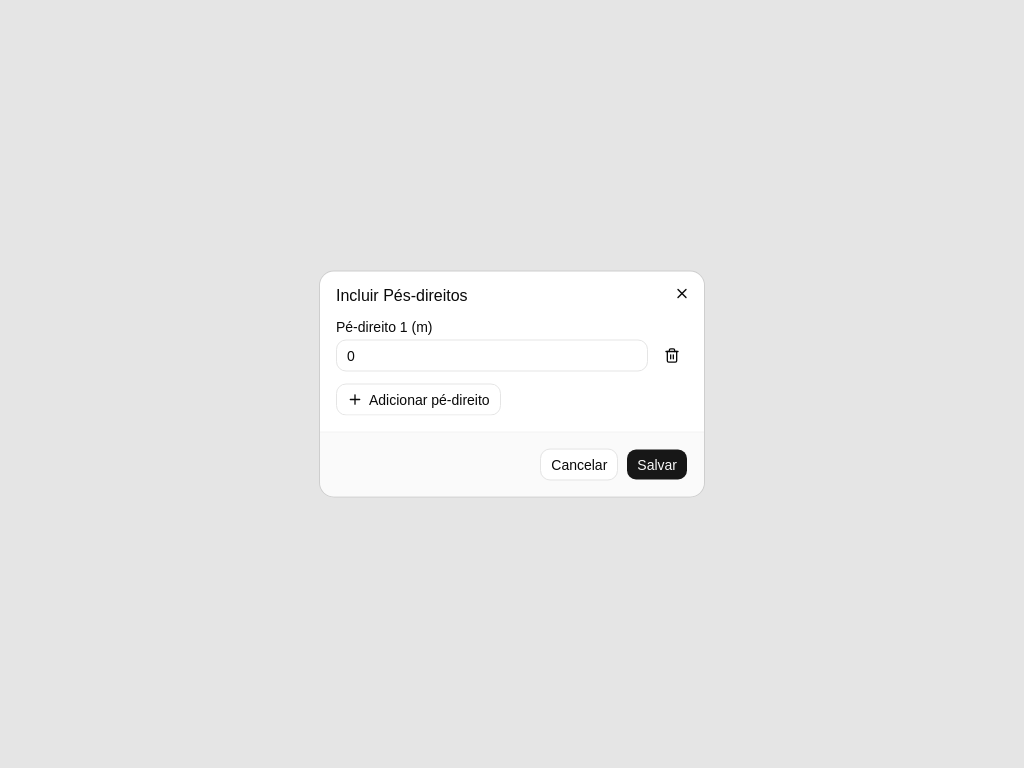
it: ModalPesDireitos (UC10/UC11-FE) › adiciona e remove alturas
Click the button "Adicionar pé-direito" at coordinates (418, 400), box [336, 384, 501, 416]
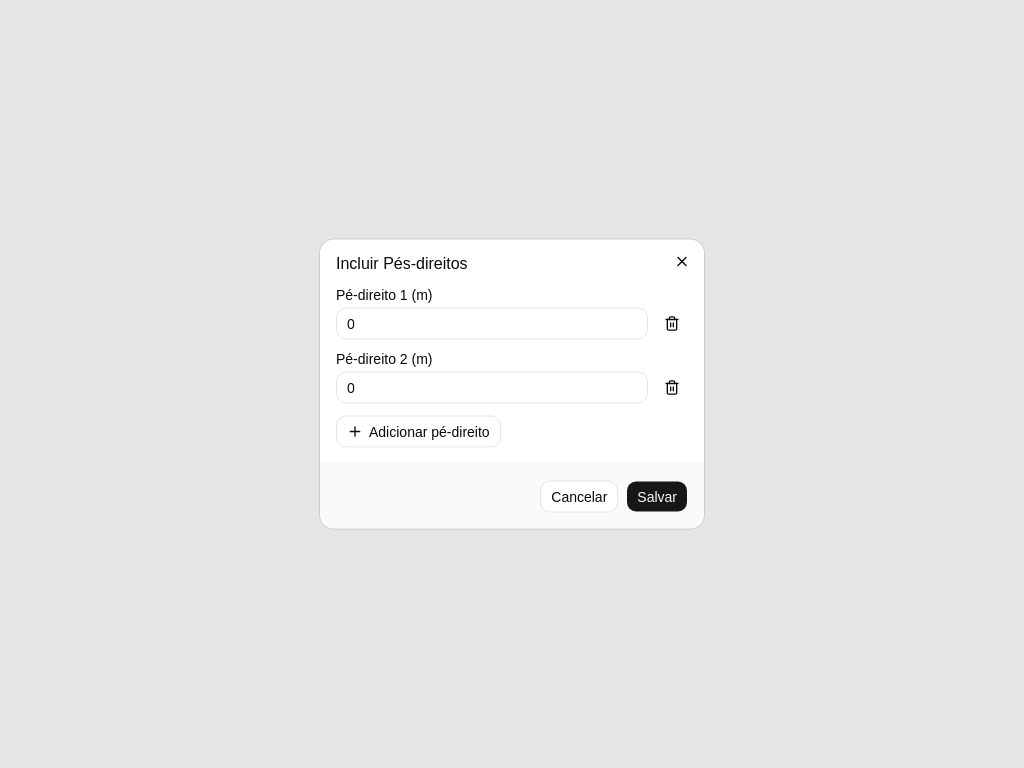
expect the number field labelled "Pé-direito 2 (m)" is shown: met, box [336, 372, 648, 404]
Click the button named "Remover pé-direito 2" at coordinates (672, 388), box [656, 372, 688, 404]
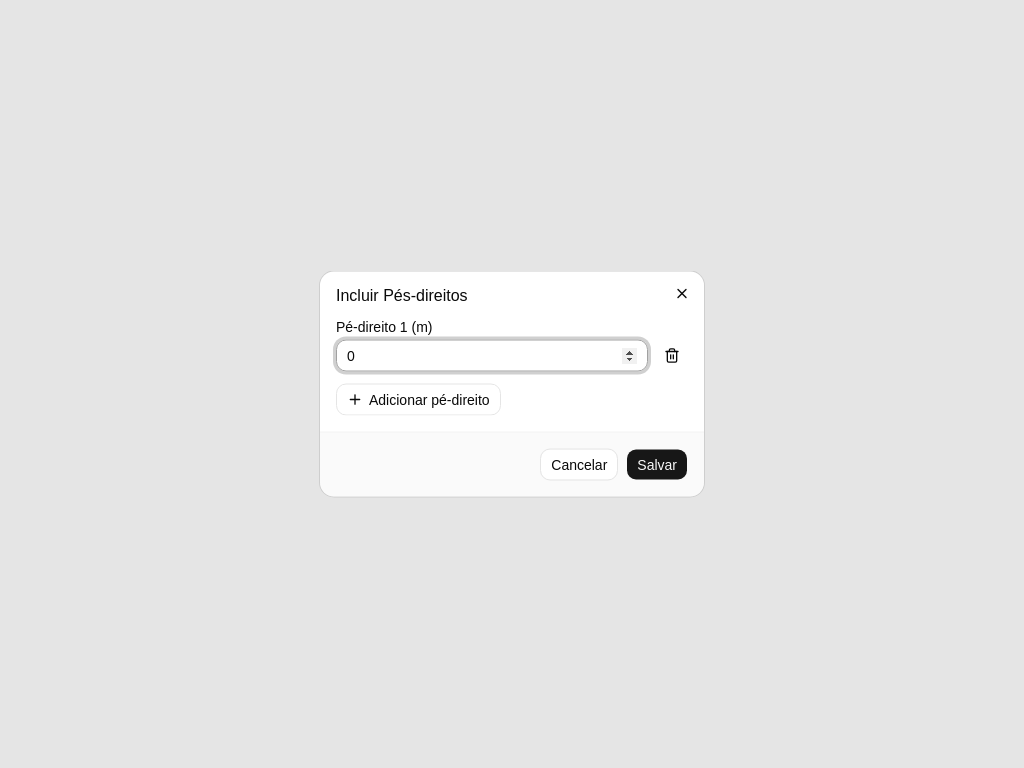
expect the label labelled "Pé-direito 2 (m)" is gone: met
